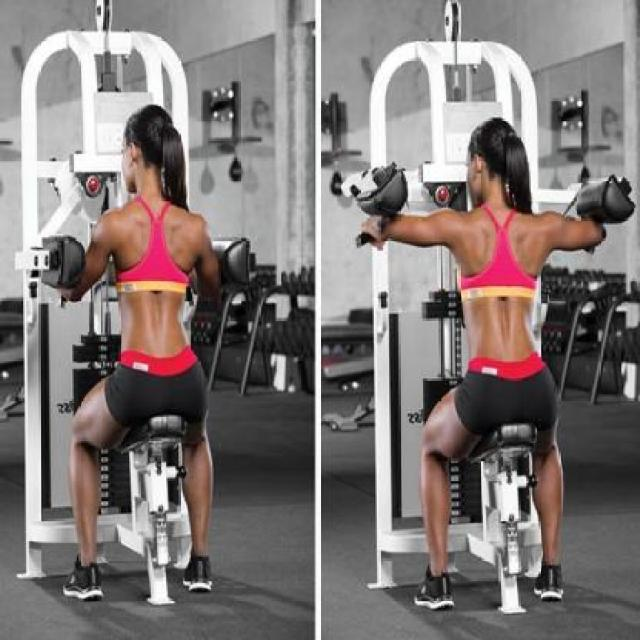lateral raises machine: (334, 0, 634, 611), (14, 2, 252, 609)
